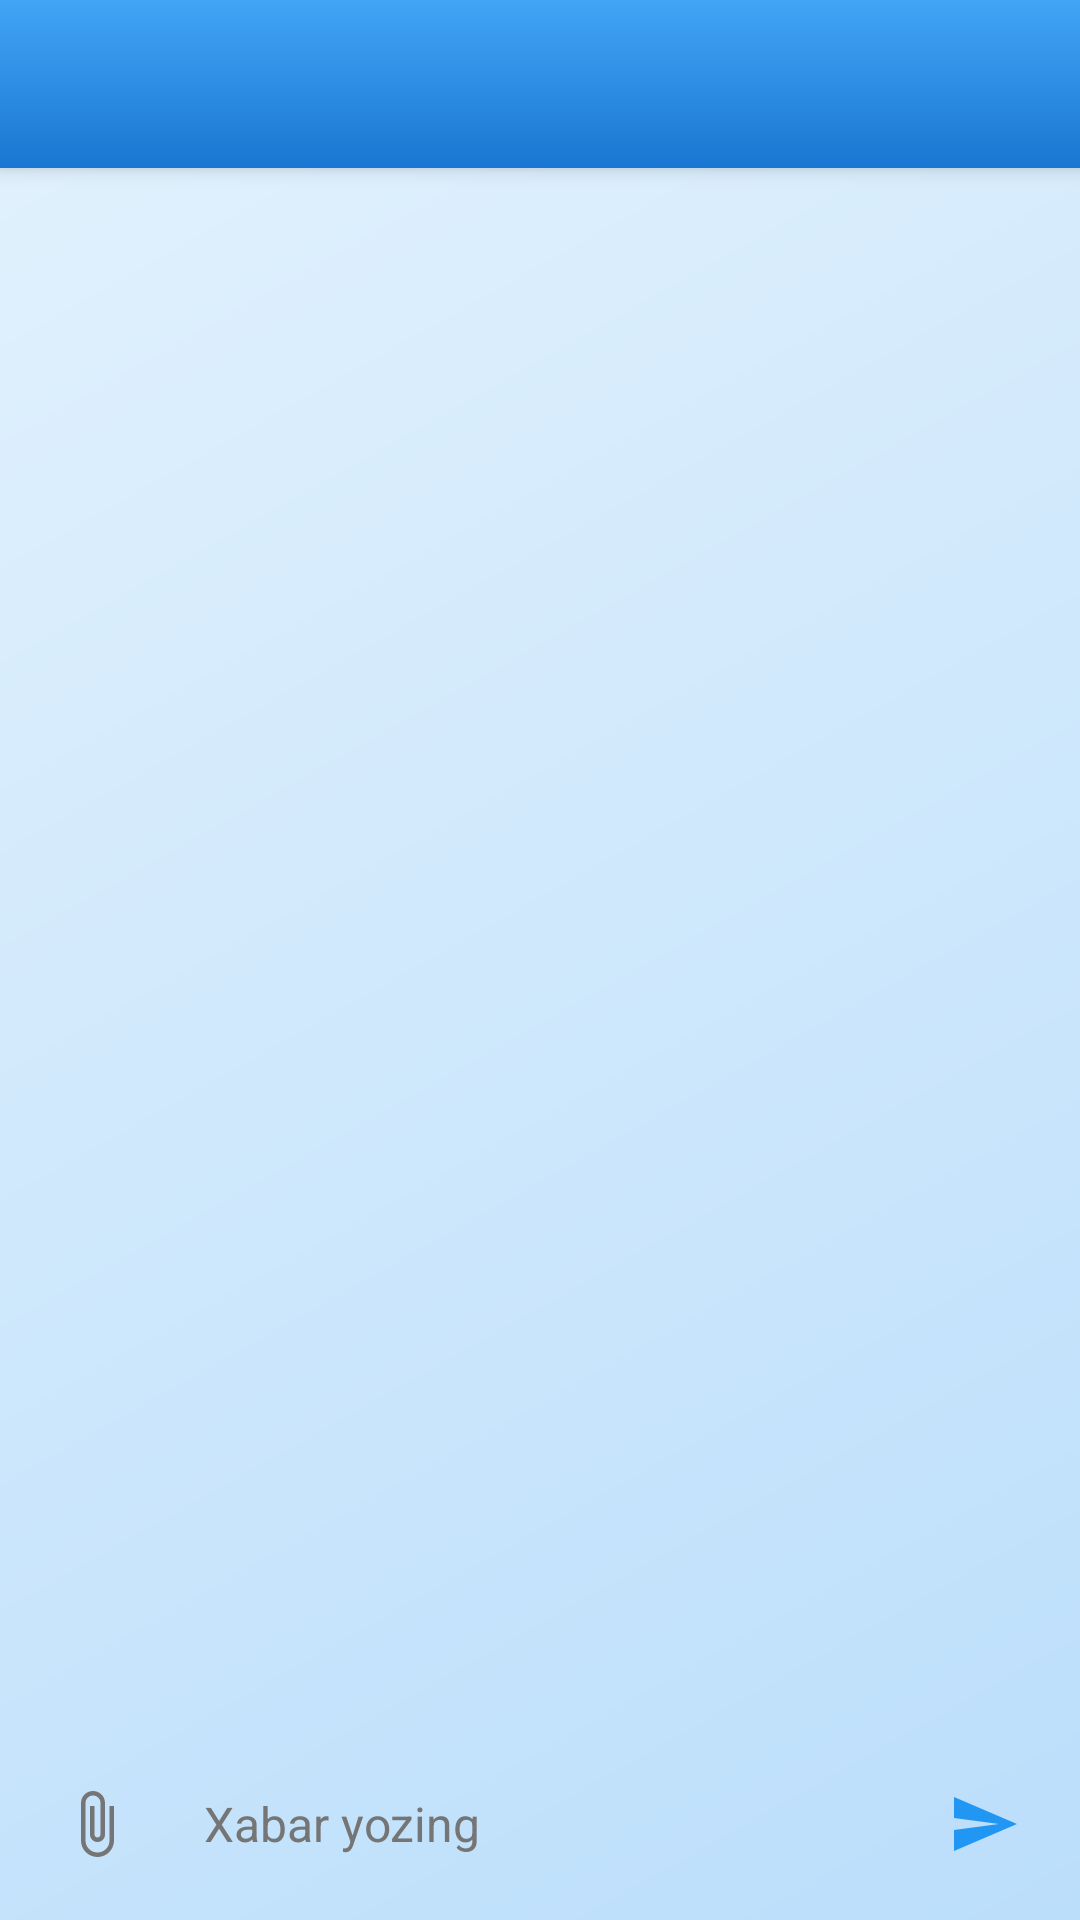

Icons on this 1080px×1920px Android screen, each with its box as (x1, y1, x2, y2):
Media tanlash: (81, 1791, 114, 1857)
Xabar yuborish: (954, 1797, 1017, 1851)
